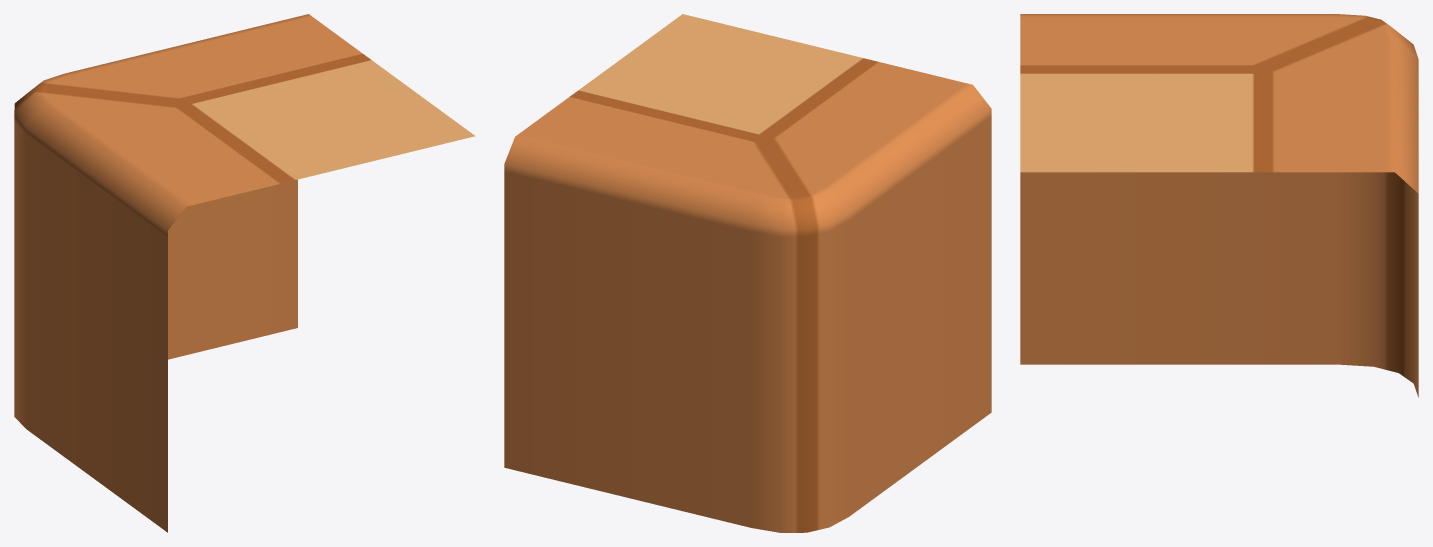
The model's file is CrateA.fbx.
The picture shows the model from 3 angles, left to right: view 1: azimuth 30°, elevation 25°; view 2: azimuth 150°, elevation 25°; view 3: azimuth 270°, elevation 25°; orthographic projection. The views are drawn at different scales.
Visible parts, largest first — view 1: CrateA; view 2: CrateA; view 3: CrateA.
Boxes of the visible parts, x1,y1,x2,y2 form: CrateA: (14,14,475,532); CrateA: (504,14,991,532); CrateA: (1020,14,1418,397).
Bounding box in the file's own units: 50.02 × 50 × 50.02.
